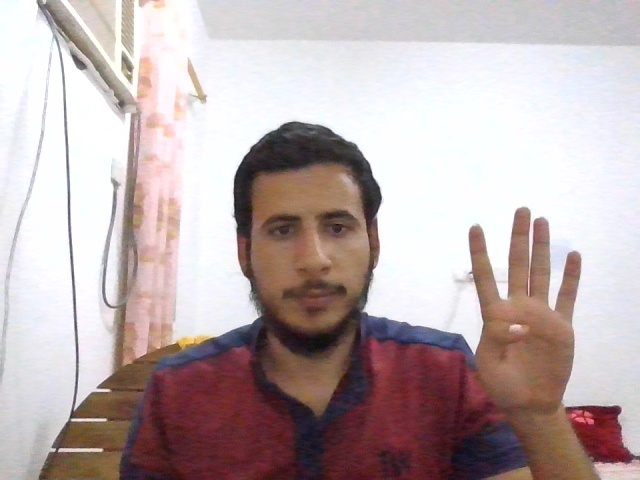Four: (468, 207, 583, 412)
